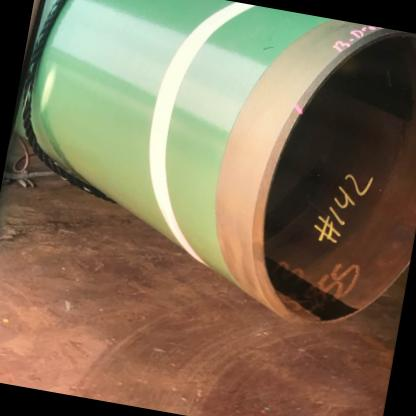Bevel: (274, 304, 300, 326)
